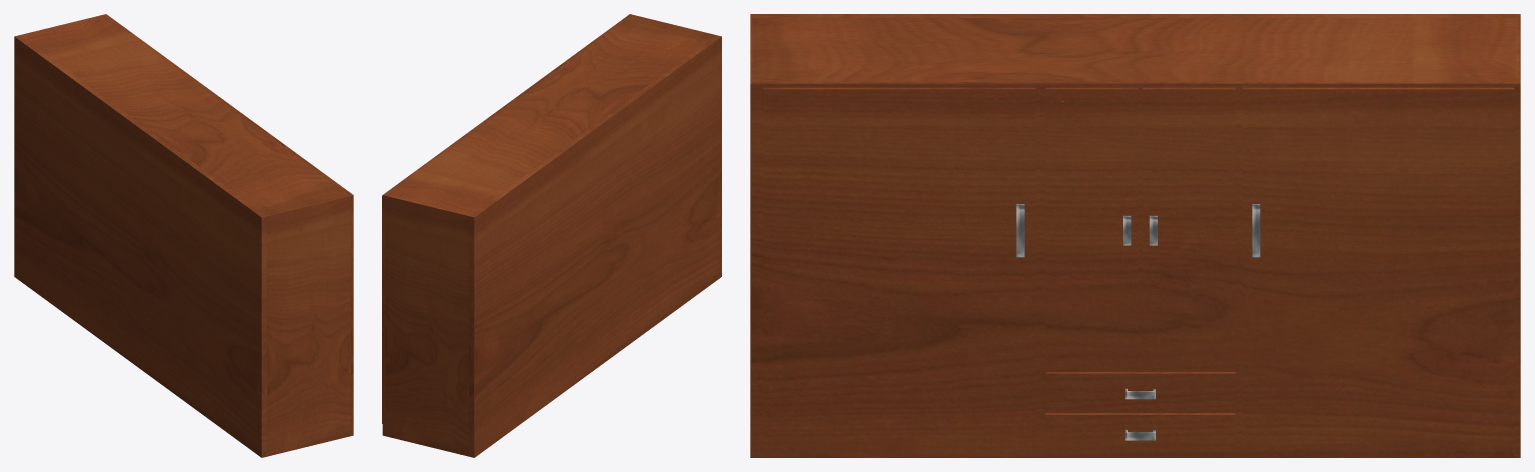
File: Muebleropero.obj
3 views of the same model, side by side, from view 1: azimuth 30°, elevation 25°; view 2: azimuth 150°, elevation 25°; view 3: azimuth 270°, elevation 25° (orthographic). The views are drawn at different scales.
Parts seen in each view (by area): view 1: Mueble; view 2: Mueble; view 3: Mueble, Manijas.
Boxes of the visible parts, <box> form: Mueble: <box>14,14,353,457</box>; Mueble: <box>382,14,721,457</box>; Mueble: <box>750,14,1520,457</box>; Manijas: <box>1016,204,1260,440</box>.
Size of the model in its own units: 21.03 by 49.06 by 91.51.
2 materials, 2 textured.
